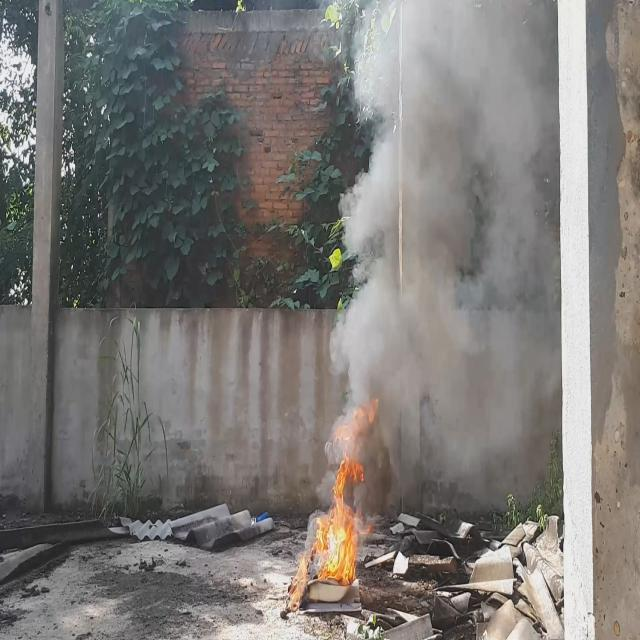Fire: (318, 457, 366, 587)
Smoke: (327, 0, 558, 523)
